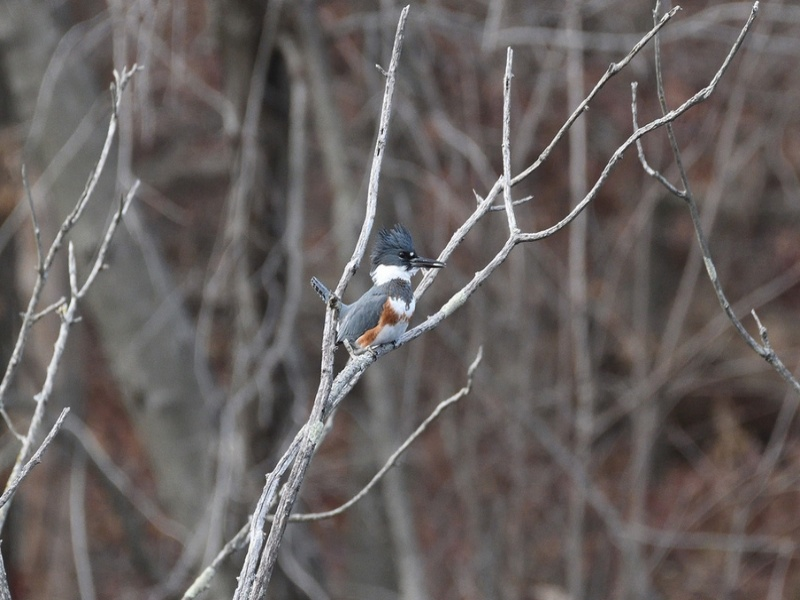kingfisher: (304, 218, 447, 367)
